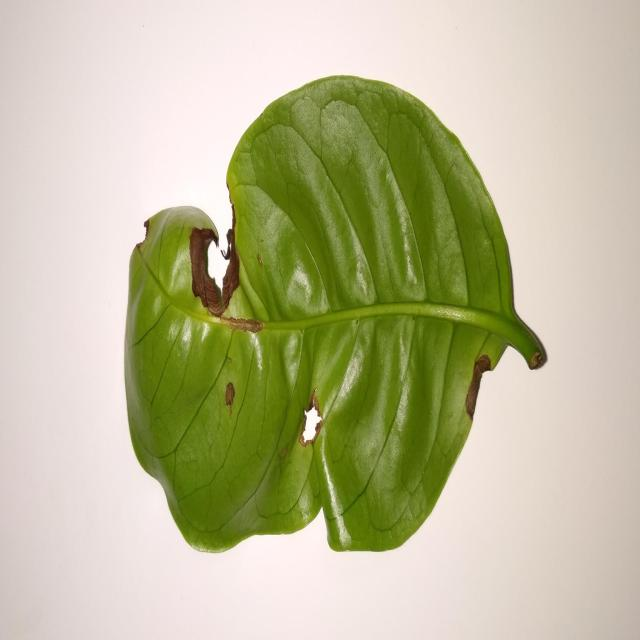Enfermedad-Antracnosis: (122, 76, 549, 557)
